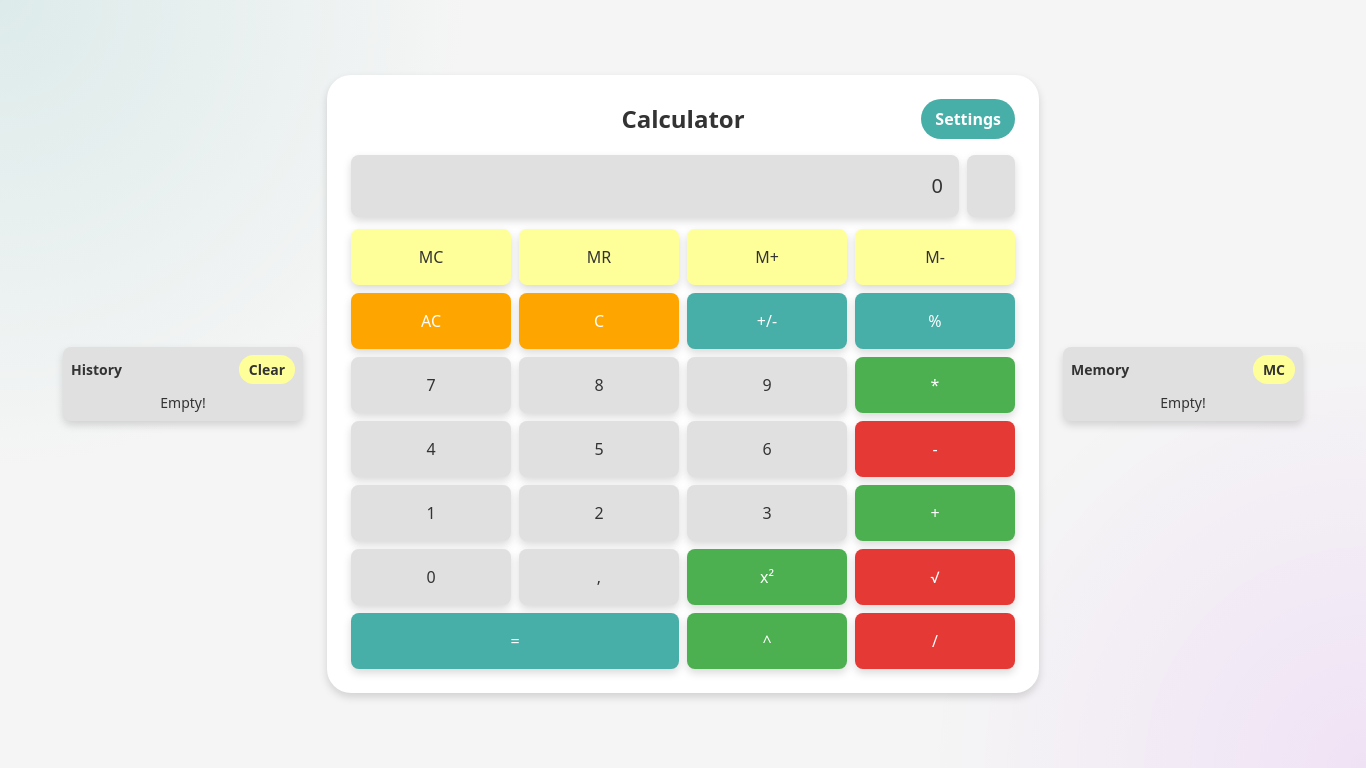
calculator application › displays an API error in the calculator display
This screenshot has width=1366, height=768.
Click the button "1" at (431, 513), box x1=351 y1=485 x2=511 y2=541
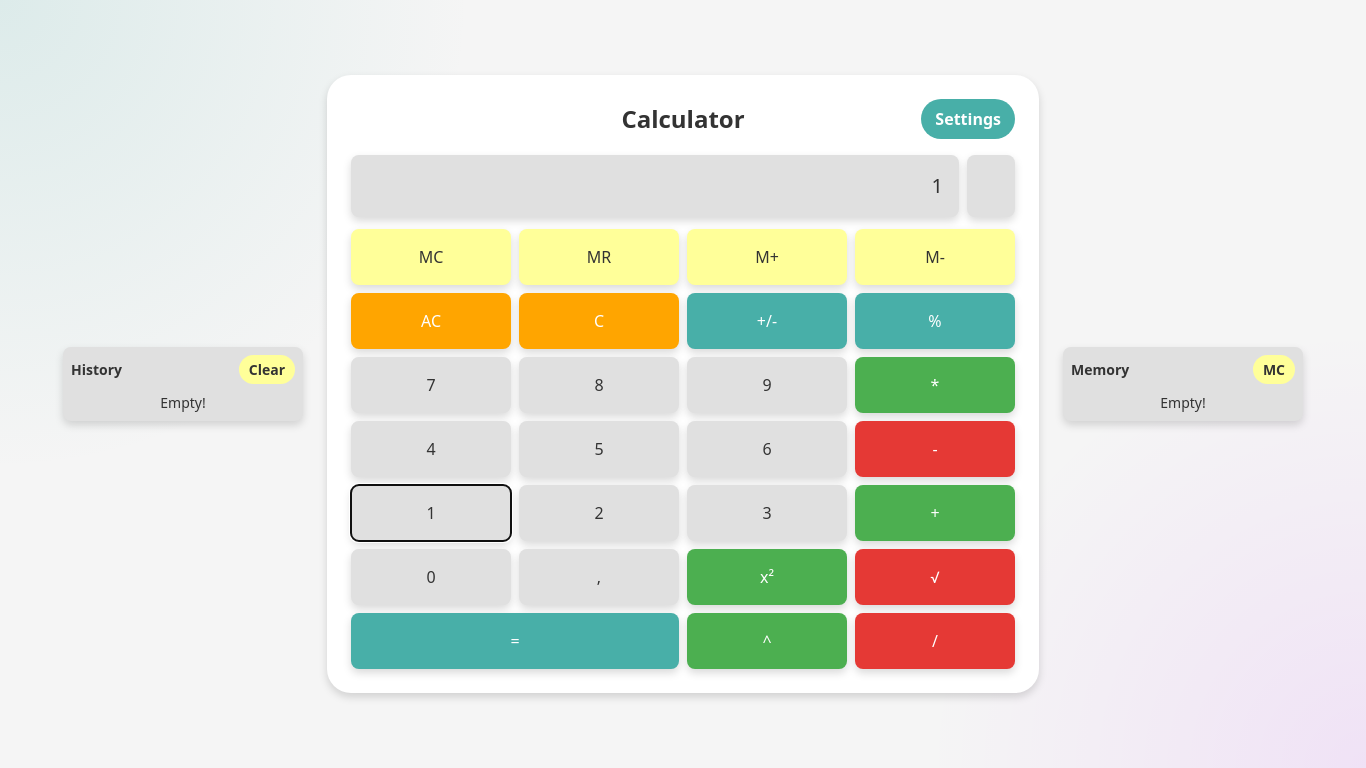
Press / in the field named "Calculator display", box x1=351 y1=155 x2=959 y2=217
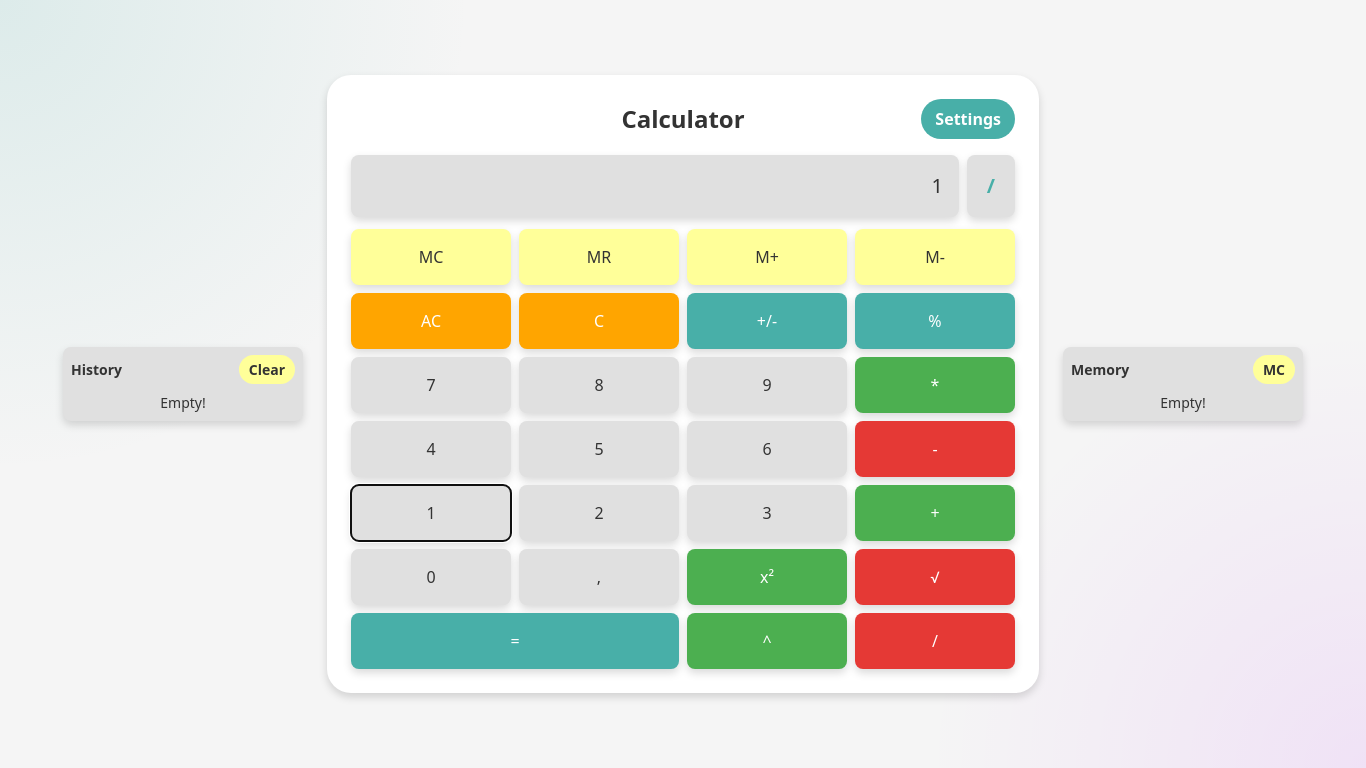
Press 0 in the field named "Calculator display", box x1=351 y1=155 x2=959 y2=217
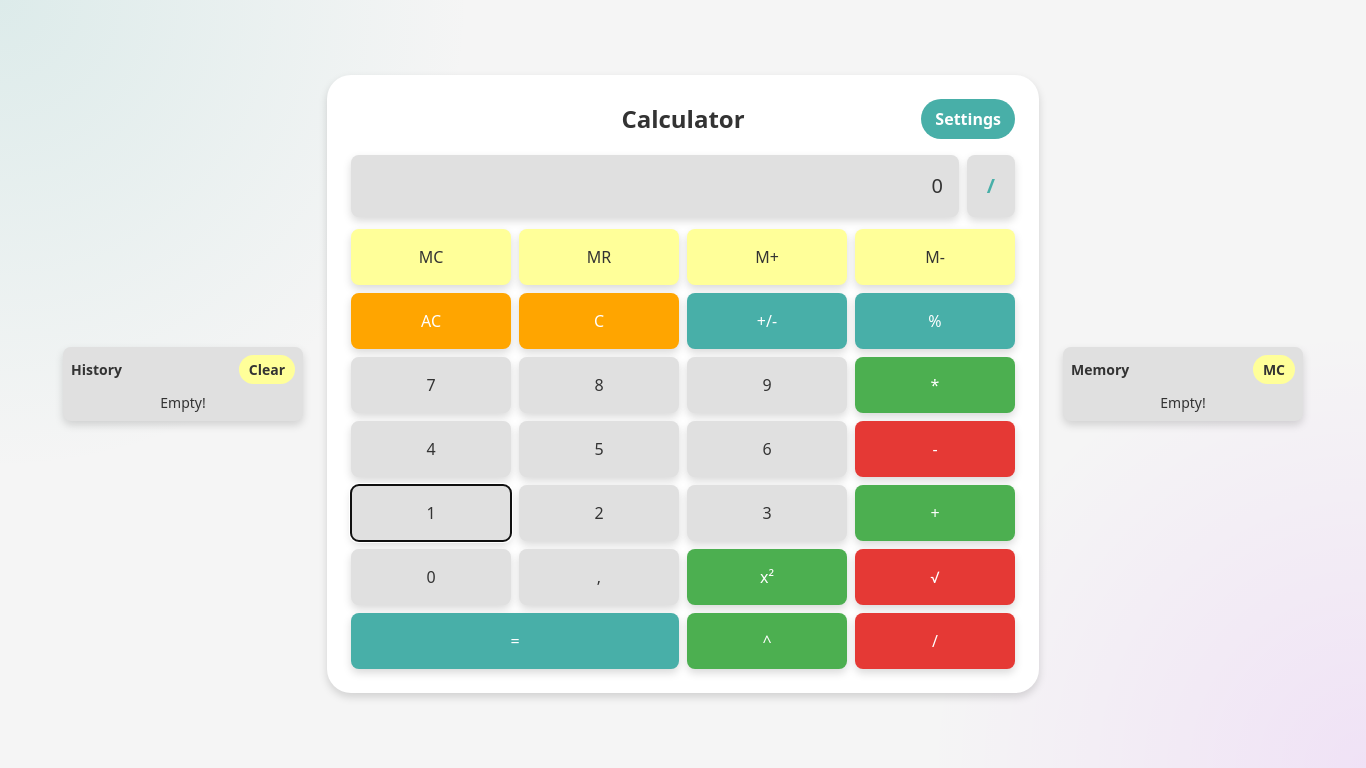
Press Enter in the field named "Calculator display", box x1=351 y1=155 x2=959 y2=217
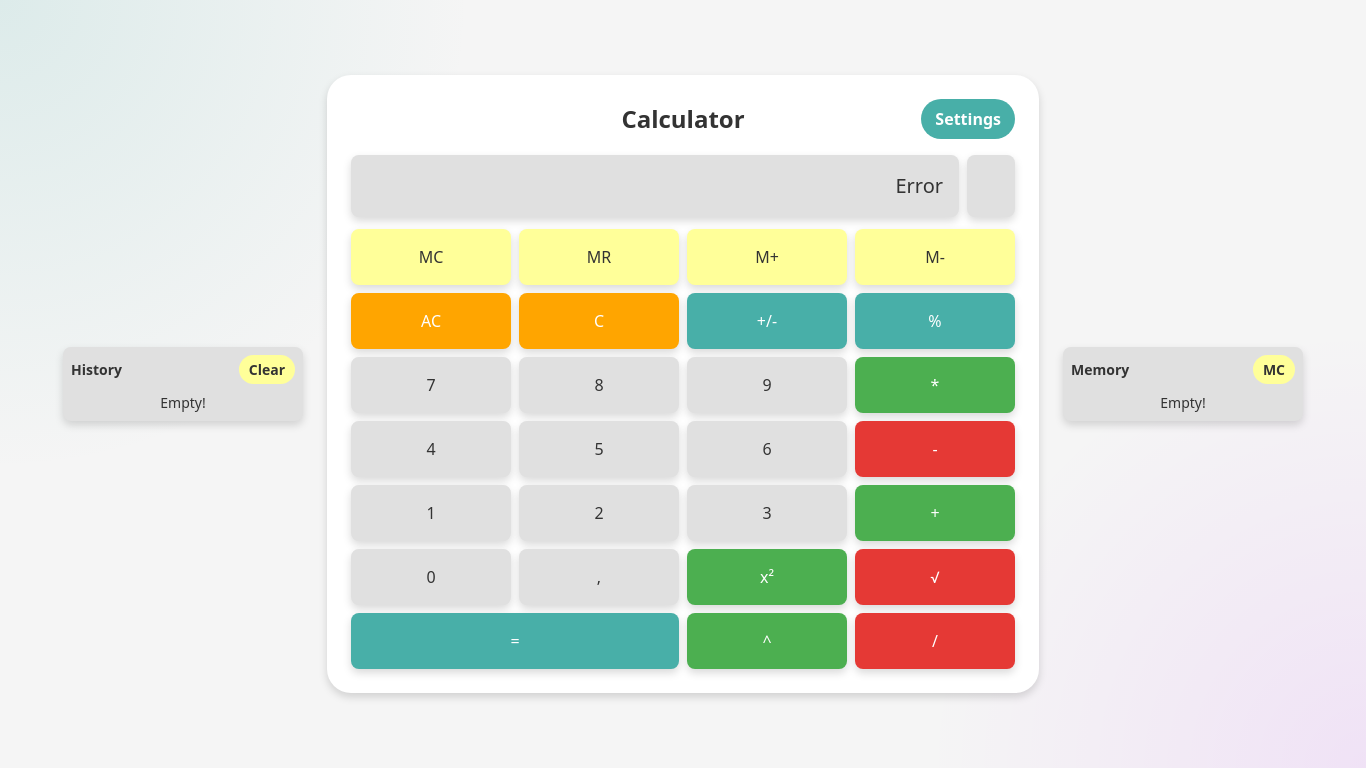
Now the field named "Calculator display" holds "Error", box x1=351 y1=155 x2=959 y2=217
